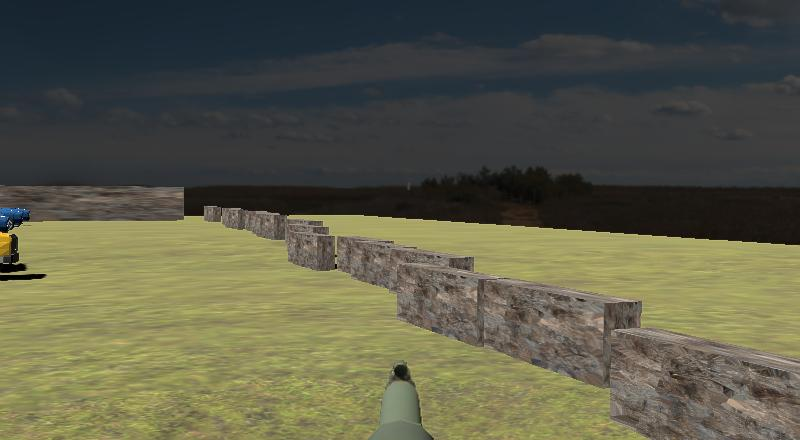car: (0, 212, 23, 285), (0, 197, 34, 235)
